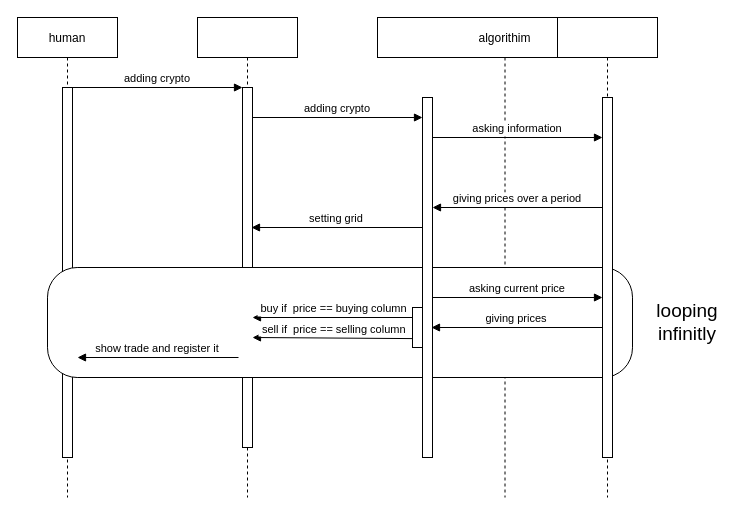
The diagram is 745 pixels wide and 515 high, and some of its shapes have lost their labels. The shapes that lost their labels are listed below. From the top down, each one's box as (x1, y1, x2, y2) in pixels, then its label:
(196, 16, 298, 498): terminal
(556, 16, 658, 498): api
